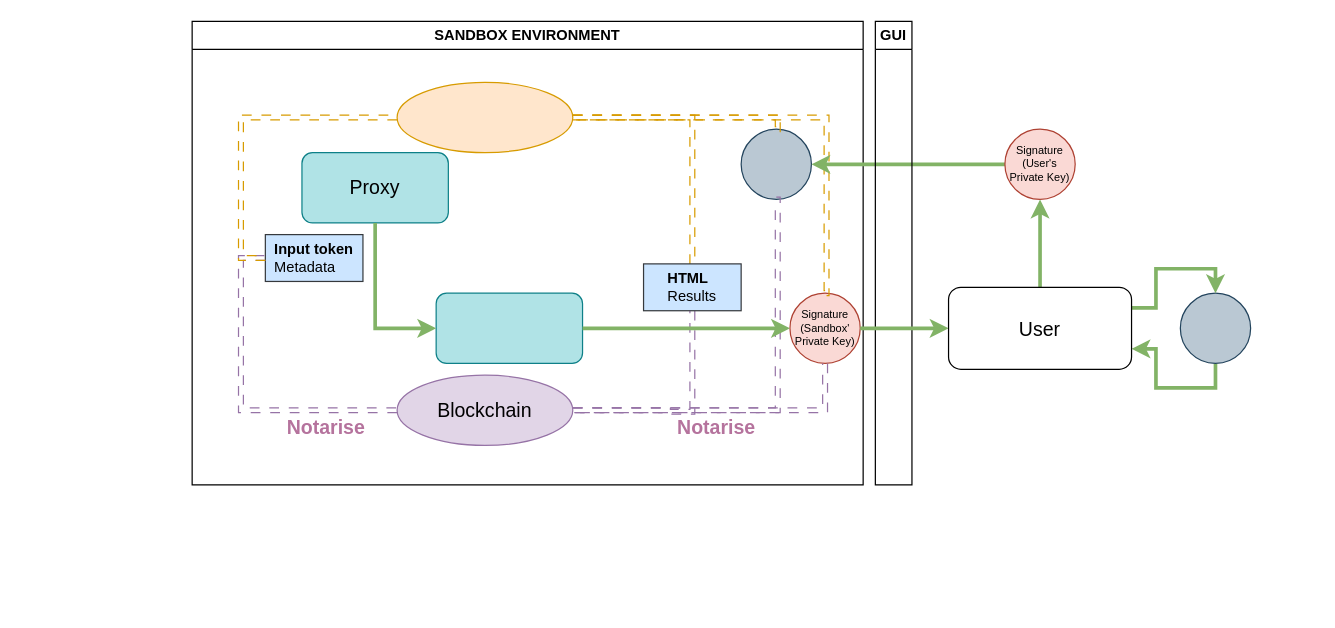
This 1335x628 diagram has some shape labels left out. Here are the shapes that lost their labels. From the top down, the centre of each, then its label:
At (x=484, y=117): "Off-chain".
At (x=775, y=163): "Signature Validation (User's Public Key)".
At (x=509, y=327): "Processor".
At (x=1215, y=327): "Signature Validation (Sandbox' Public Key)".
